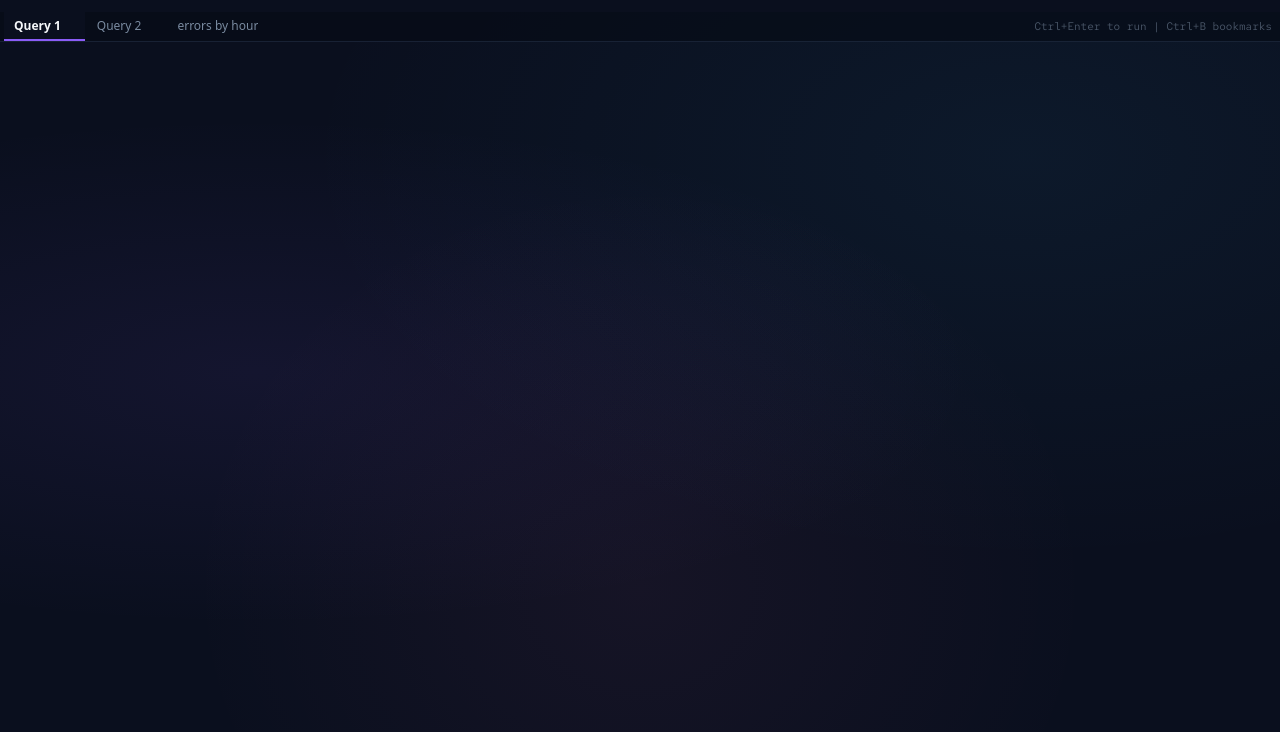
Scenario: renaming › opens an input on double click, seeded with the current name
This screenshot has width=1280, height=732.
Double-click the tab "Query 1": (44, 26) [4,12,85,41]
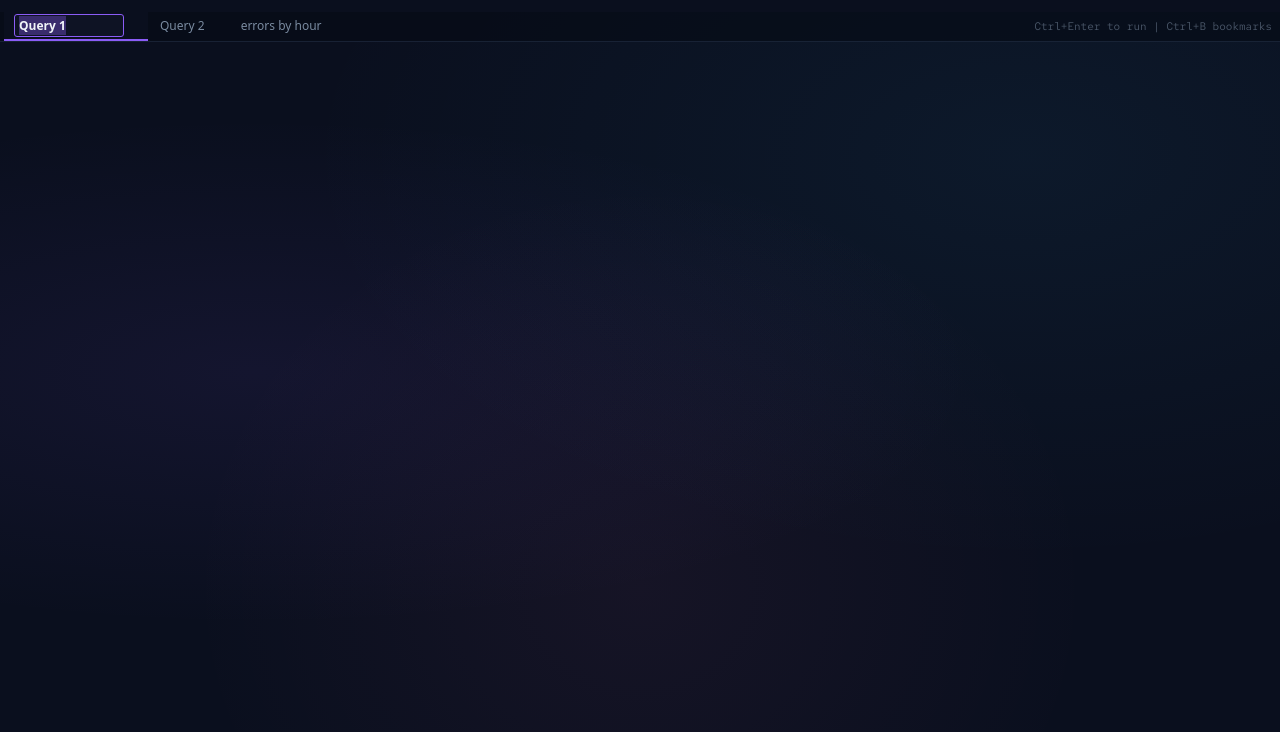
Now the field named "Rename tab" holds "Query 1", box [14,14,124,37]
